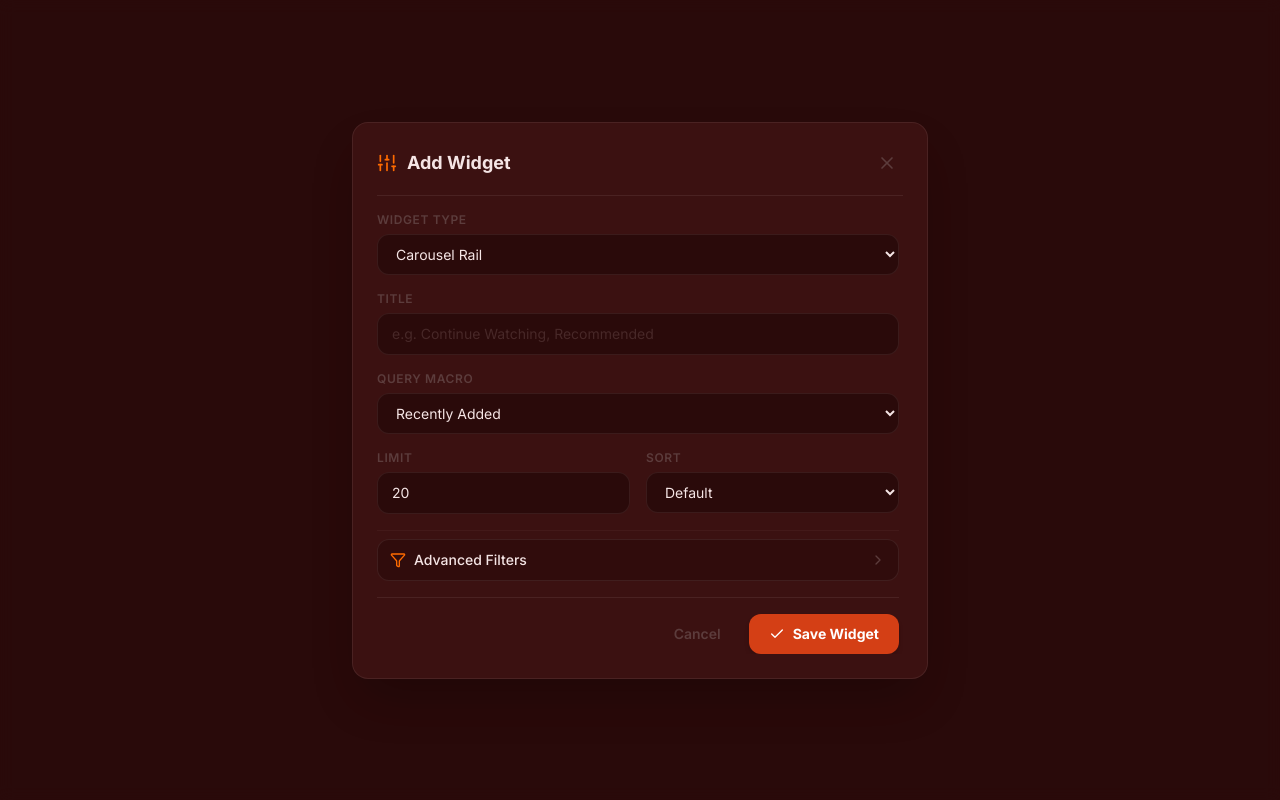
Test: WidgetConfigModal Component › changes widget type between Hero, Carousel, and Grid (showing columns input only for Grid)
Select "Grid Layout" in the dropdown labelled "Widget Type" at {"x": 638, "y": 254}, box [377,234,899,274]
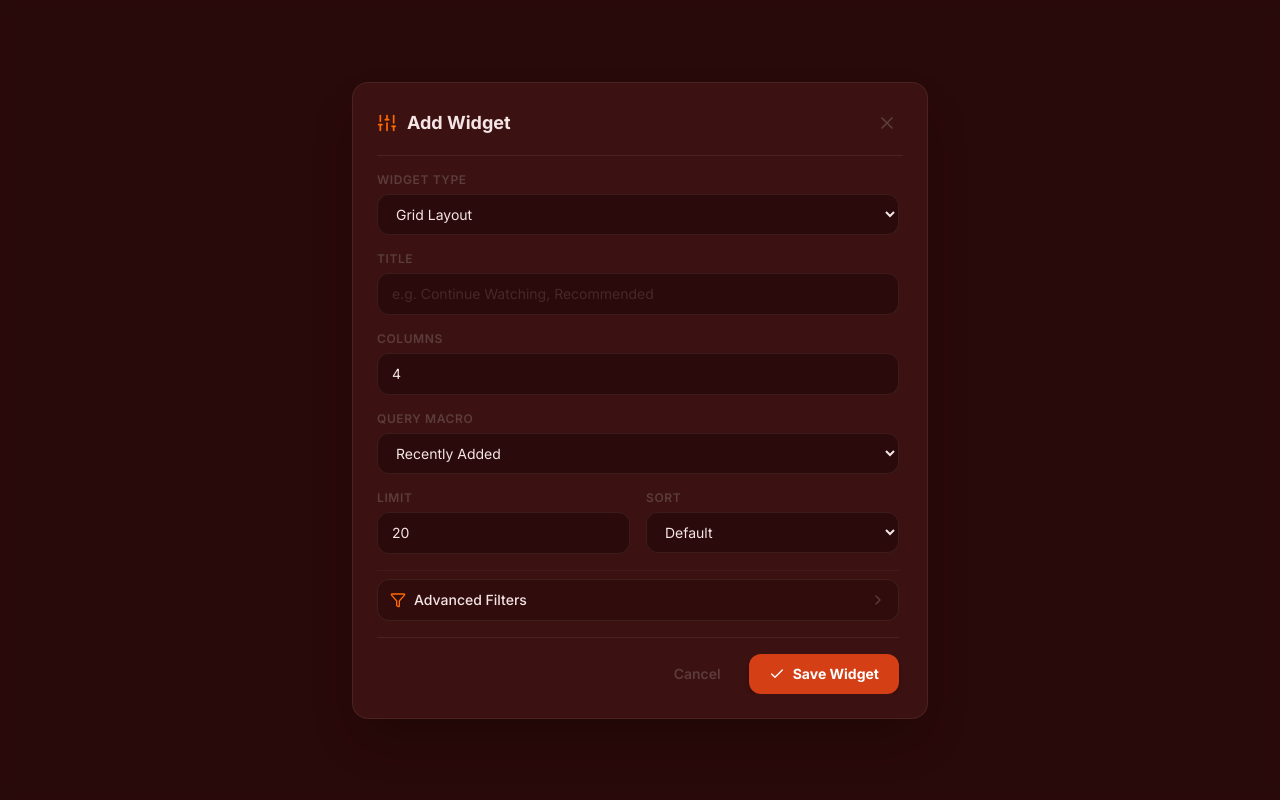
Expected: the field labelled "Title" is shown, [377,272,899,314]
Result: the number field labelled "Columns" is shown at [377,352,899,394]
Select "Hero Banner" in the dropdown labelled "Widget Type" at {"x": 638, "y": 214}, box [377,194,899,234]
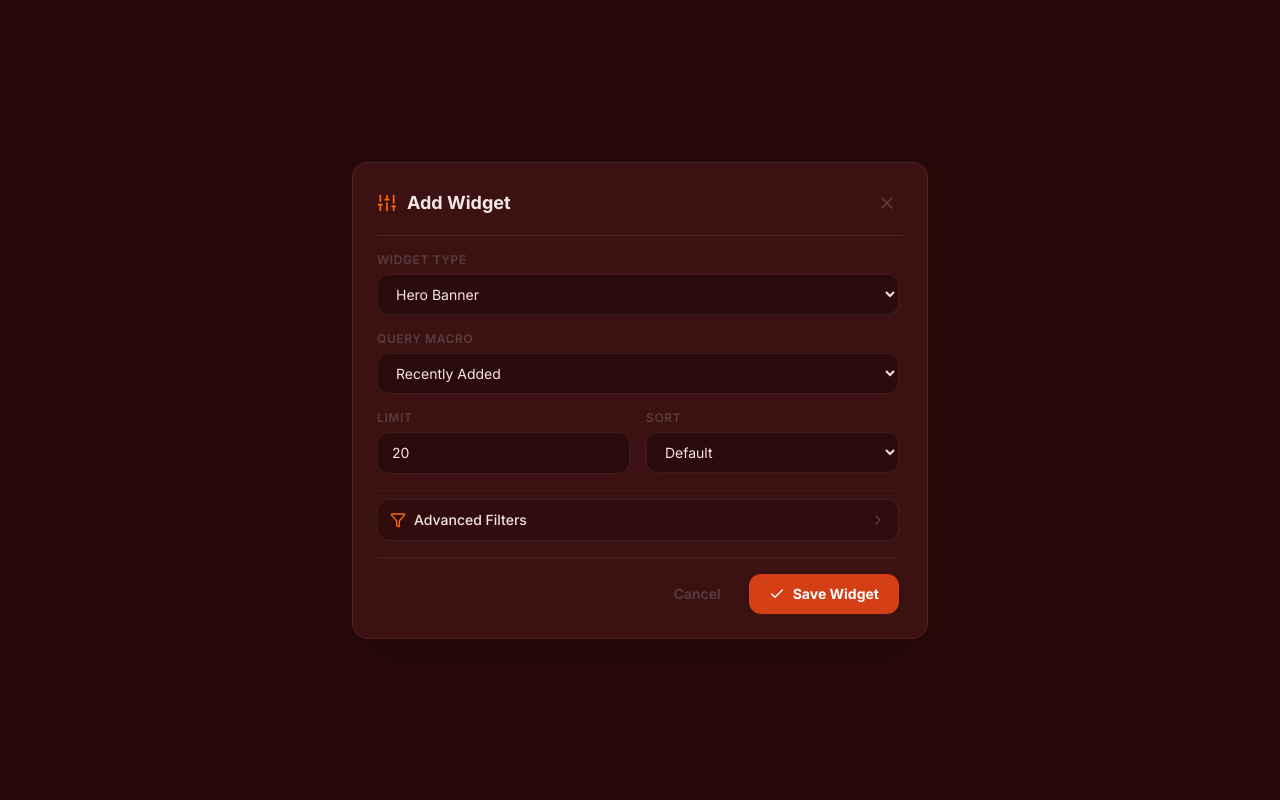
Result: the label labelled "Columns" is gone
Result: the label labelled "Title" is gone
Select "Carousel Rail" in the dropdown labelled "Widget Type" at {"x": 638, "y": 294}, box [377,274,899,314]
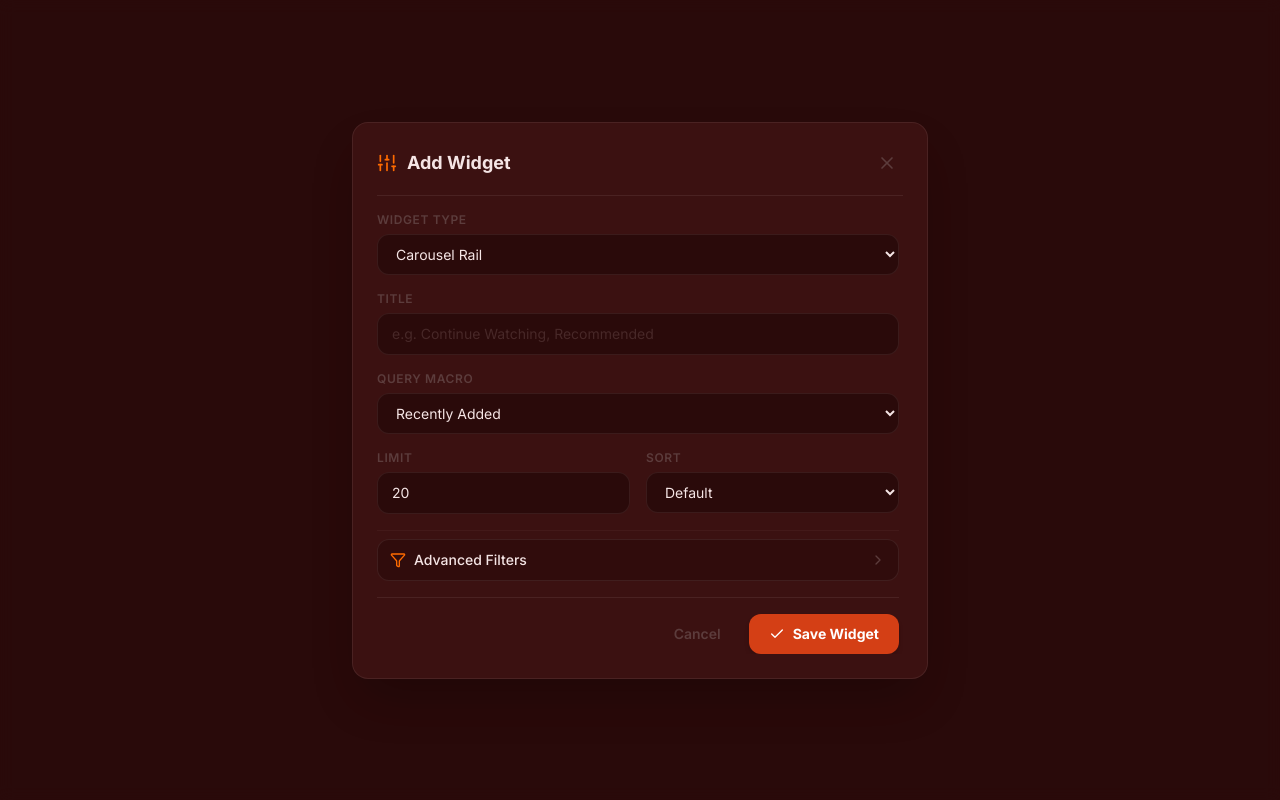
Expected: the label labelled "Columns" is not shown
Result: the field labelled "Title" is shown at [377,312,899,354]
